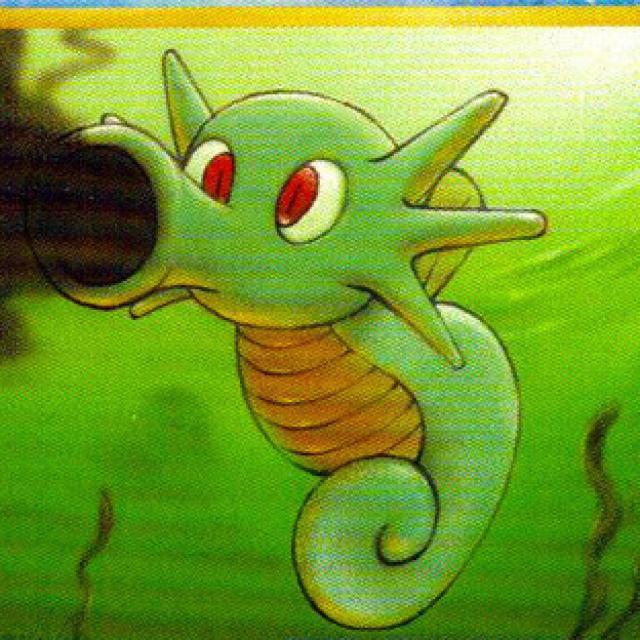Horsea: (93, 44, 542, 640)
